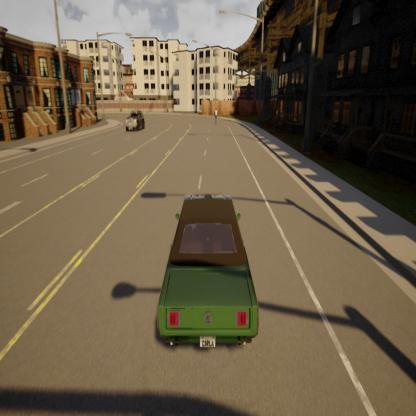Cars: (143, 184, 267, 360), (121, 108, 146, 135)
